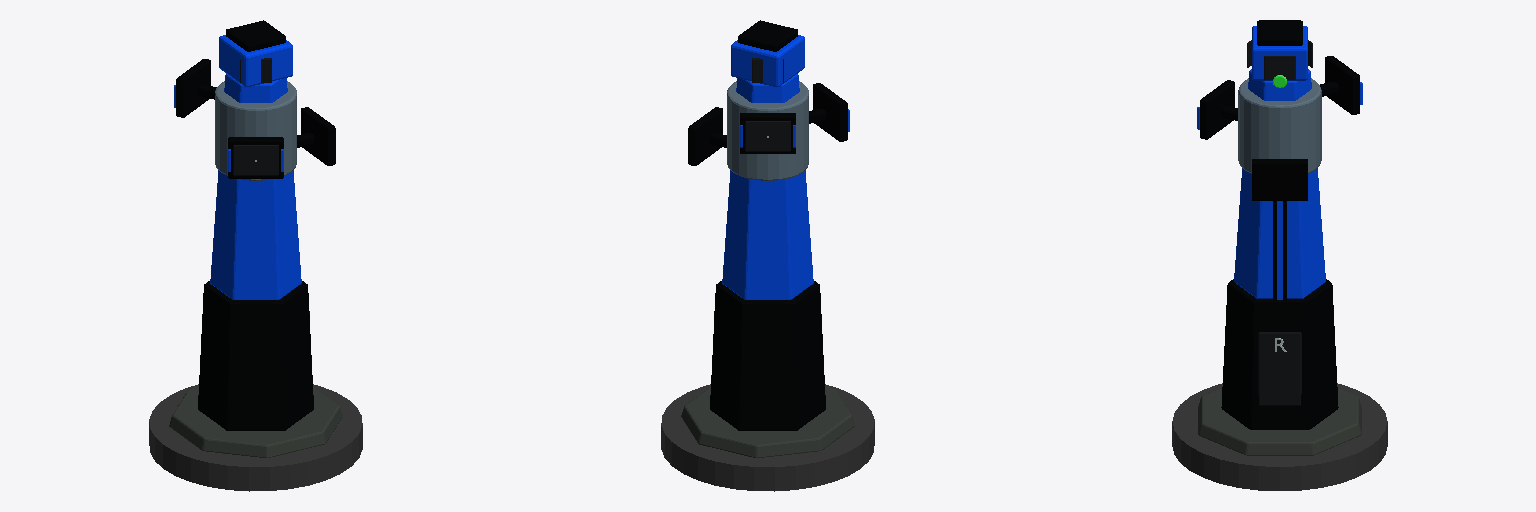
The robot description file, URDF, robot "arena2027_blue_outpost":
<?xml version='1.0' encoding='utf-8'?>
<robot name="arena2027_blue_outpost"><link name="base_link"><visual name="plinth"><origin xyz="0 0 -0.05" /><geometry><cylinder radius="0.4" length="0.1" /></geometry><material name="plinth_gray"><color rgba="0.25 0.25 0.25 1" /></material></visual><collision name="plinth"><origin xyz="0 0 -0.05" /><geometry><cylinder radius="0.4" length="0.1" /></geometry></collision><visual name="TowerLight"><geometry><mesh filename="part_000.obj" /></geometry><material name="material_0"><color rgba="0.04 0.32 0.95 1" /></material></visual><collision name="collision_0"><geometry><mesh filename="part_000.obj" /></geometry></collision><visual name="SkirtPanel"><geometry><mesh filename="part_001.obj" /></geometry><material name="material_1"><color rgba="0.12156862745098039 0.12549019607843137 0.13333333333333333 1.0" /></material></visual><collision name="collision_1"><geometry><mesh filename="part_001.obj" /></geometry></collision><visual name="SmallArmor.002"><geometry><mesh filename="part_002.obj" /></geometry><material name="material_2"><color rgba="0.12156862745098039 0.12549019607843137 0.13333333333333333 1.0" /></material></visual><collision name="collision_2"><geometry><mesh filename="part_002.obj" /></geometry></collision><visual name="SmallArmor.001"><geometry><mesh filename="part_003.obj" /></geometry><material name="material_3"><color rgba="0.12156862745098039 0.12549019607843137 0.13333333333333333 1.0" /></material></visual><collision name="collision_3"><geometry><mesh filename="part_003.obj" /></geometry></collision><visual name="SmallArmor"><geometry><mesh filename="part_004.obj" /></geometry><material name="material_4"><color rgba="0.12156862745098039 0.12549019607843137 0.13333333333333333 1.0" /></material></visual><collision name="collision_4"><geometry><mesh filename="part_004.obj" /></geometry></collision><visual name="OutpostPedestal"><geometry><mesh filename="part_005.obj" /></geometry><material name="material_5"><color rgba="0.25098039215686274 0.27058823529411763 0.25098039215686274 1.0" /></material></visual><collision name="collision_5"><geometry><mesh filename="part_005.obj" /></geometry></collision><visual name="Outpost_TeamPrimaryShell.001"><geometry><mesh filename="part_006.obj" /></geometry><material name="material_6"><color rgba="0.04 0.32 0.95 1" /></material></visual><collision name="collision_6"><geometry><mesh filename="part_006.obj" /></geometry></collision><visual name="Outpost_OutpostGraphite"><geometry><mesh filename="part_007.obj" /></geometry><material name="material_7"><color rgba="0.03529411764705882 0.0392156862745098 0.043137254901960784 1.0" /></material></visual><collision name="collision_7"><geometry><mesh filename="part_007.obj" /></geometry></collision><visual name="Logo"><geometry><mesh filename="part_008.obj" /></geometry><material name="material_8"><color rgba="0.7215686274509804 0.7803921568627451 0.7686274509803922 1.0" /></material></visual><collision name="collision_8"><geometry><mesh filename="part_008.obj" /></geometry></collision><visual name="DartGuideLight"><geometry><mesh filename="part_009.obj" /></geometry><material name="material_9"><color rgba="0.2 1.0 0.25098039215686274 1.0" /></material></visual><collision name="collision_9"><geometry><mesh filename="part_009.obj" /></geometry></collision><visual name="RotorCollar"><geometry><mesh filename="part_010.obj" /></geometry><material name="material_10"><color rgba="0.3803921568627451 0.4588235294117647 0.5098039215686274 1.0" /></material></visual><collision name="collision_10"><geometry><mesh filename="part_010.obj" /></geometry></collision><visual name="WeakSpot.002"><geometry><mesh filename="part_011.obj" /></geometry><material name="material_11"><color rgba="0.7215686274509804 0.7803921568627451 0.7686274509803922 1.0" /></material></visual><collision name="collision_11"><geometry><mesh filename="part_011.obj" /></geometry></collision><visual name="OutpostArmor_2_TeamGlow"><geometry><mesh filename="part_012.obj" /></geometry><material name="material_12"><color rgba="0.04 0.32 0.95 1" /></material></visual><collision name="collision_12"><geometry><mesh filename="part_012.obj" /></geometry></collision><visual name="ArmorPanel.002"><geometry><mesh filename="part_013.obj" /></geometry><material name="material_13"><color rgba="0.12156862745098039 0.12549019607843137 0.13333333333333333 1.0" /></material></visual><collision name="collision_13"><geometry><mesh filename="part_013.obj" /></geometry></collision><visual name="ArmorFrame.002"><geometry><mesh filename="part_014.obj" /></geometry><material name="material_14"><color rgba="0.03529411764705882 0.0392156862745098 0.043137254901960784 1.0" /></material></visual><collision name="collision_14"><geometry><mesh filename="part_014.obj" /></geometry></collision><visual name="WeakSpot.001"><geometry><mesh filename="part_015.obj" /></geometry><material name="material_15"><color rgba="0.7215686274509804 0.7803921568627451 0.7686274509803922 1.0" /></material></visual><collision name="collision_15"><geometry><mesh filename="part_015.obj" /></geometry></collision><visual name="OutpostArmor_1_TeamGlow"><geometry><mesh filename="part_016.obj" /></geometry><material name="material_16"><color rgba="0.04 0.32 0.95 1" /></material></visual><collision name="collision_16"><geometry><mesh filename="part_016.obj" /></geometry></collision><visual name="ArmorPanel.001"><geometry><mesh filename="part_017.obj" /></geometry><material name="material_17"><color rgba="0.12156862745098039 0.12549019607843137 0.13333333333333333 1.0" /></material></visual><collision name="collision_17"><geometry><mesh filename="part_017.obj" /></geometry></collision><visual name="ArmorFrame.001"><geometry><mesh filename="part_018.obj" /></geometry><material name="material_18"><color rgba="0.03529411764705882 0.0392156862745098 0.043137254901960784 1.0" /></material></visual><collision name="collision_18"><geometry><mesh filename="part_018.obj" /></geometry></collision><visual name="ArmorFrame"><geometry><mesh filename="part_022.obj" /></geometry><material name="material_22"><color rgba="0.03529411764705882 0.0392156862745098 0.043137254901960784 1.0" /></material></visual><collision name="collision_22"><geometry><mesh filename="part_022.obj" /></geometry></collision><visual name="ArmorRotor_OutpostGraphite"><geometry><mesh filename="part_023.obj" /></geometry><material name="material_23"><color rgba="0.03529411764705882 0.0392156862745098 0.043137254901960784 1.0" /></material></visual><collision name="collision_23"><geometry><mesh filename="part_023.obj" /></geometry></collision></link></robot>

--- What the picture shows (computed from the rendered views, not written in the file) ---
3 views of the same robot in one strip: view 1: azimuth 30°, elevation 25°; view 2: azimuth 150°, elevation 25°; view 3: azimuth 270°, elevation 25° (orthographic).
Model arena2027_blue_outpost with 1 links and 0 joints (none), rooted at base_link, posed all joints at 0.
Visible links, largest first — view 1: base_link; view 2: base_link; view 3: base_link.
Link boxes in pixels (x1,y1,x2,y2): base_link: (149, 20, 362, 491); base_link: (661, 20, 874, 491); base_link: (1172, 20, 1387, 490).
Bounding box of the posed robot: 0.8 × 0.8 × 1.71 m (x, y, z).
21 mesh visuals loaded from 21 distinct referenced files (21 OBJ).
